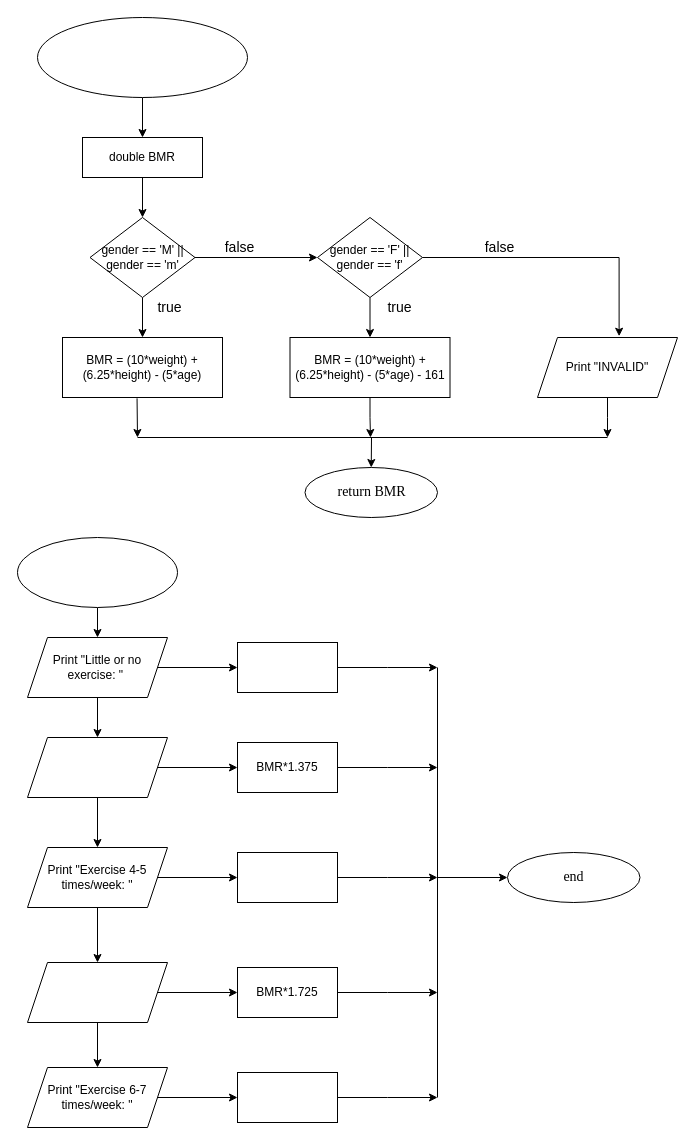
The diagram is 695 pixels wide and 1145 high, and some of its shapes have lost their labels. The shapes that lost their labels are listed below. From the top down, each one's centre as x and y in pixels, then its label:
(142,57): BMRcalc (int age, char gender, double weight, double height)
(97,572): caloriesCalc (double BMR)
(287,667): BMR*1.2
(97,767): Print "Exercise 1-3 times/week: "
(287,877): BMR*1.55
(97,992): Print "Intense exercise 3-4 times/week: "
(287,1097): BMR*1.9
